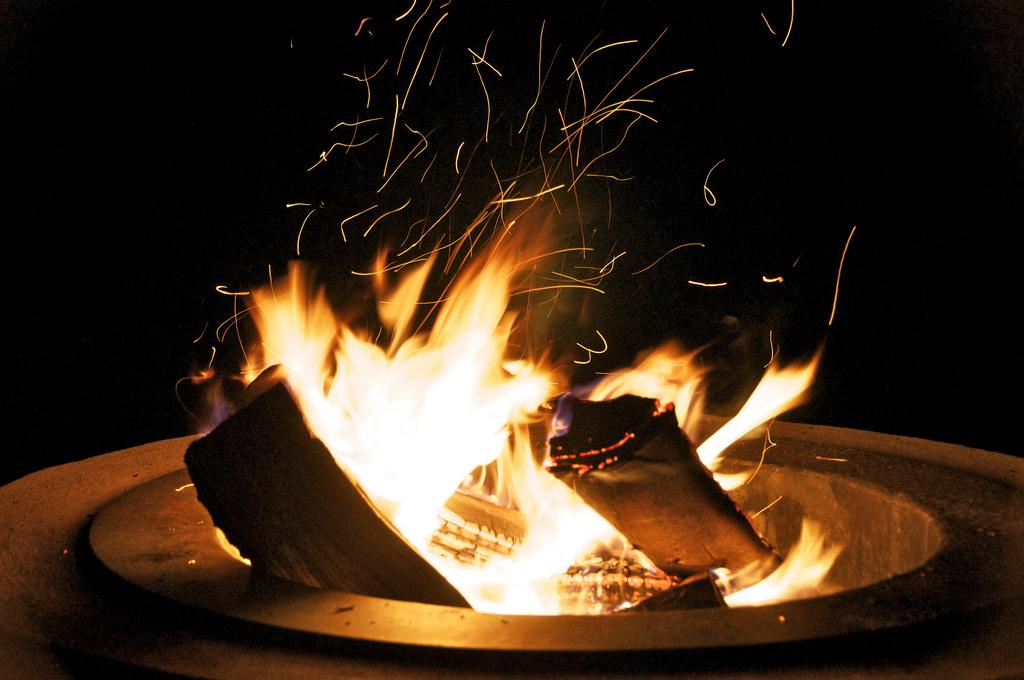fire: (318, 298, 523, 493), (492, 508, 615, 600)
